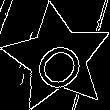O_NE: (24, 25, 91, 91)
